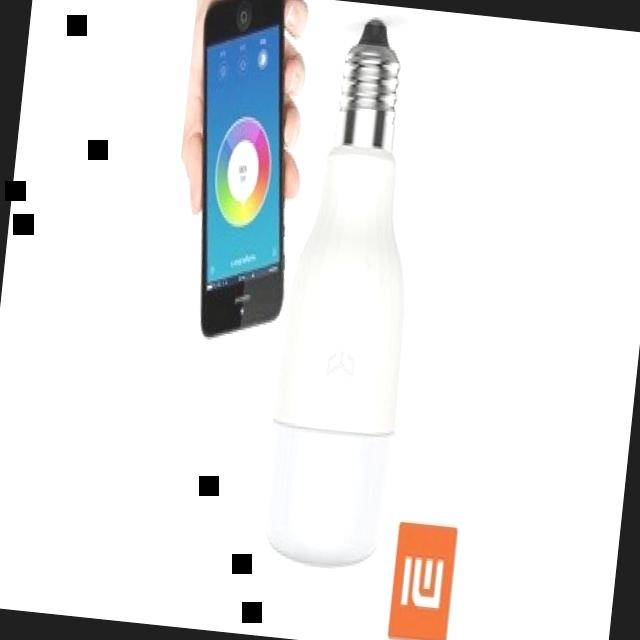light_bulb: (252, 9, 446, 582)
